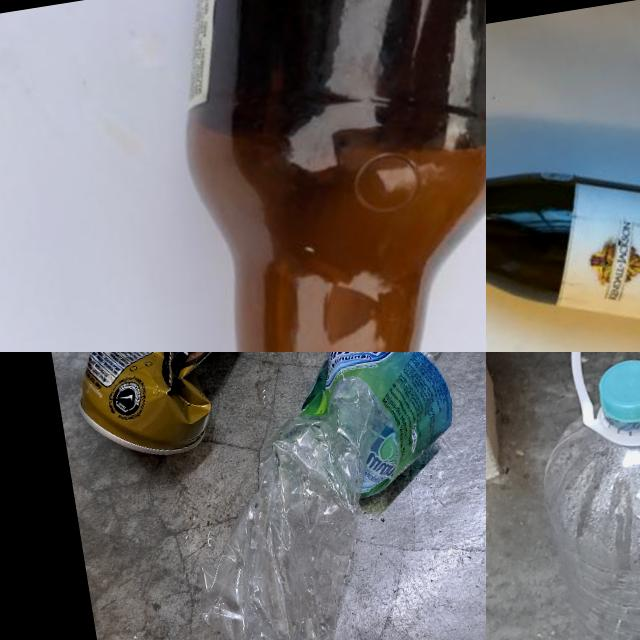garrafa de vidro: (161, 0, 486, 352), (486, 94, 640, 352)
garrafa plástica: (163, 352, 486, 640), (529, 378, 640, 640)
lata: (52, 352, 304, 468)
tampa plástica: (594, 355, 640, 425)
